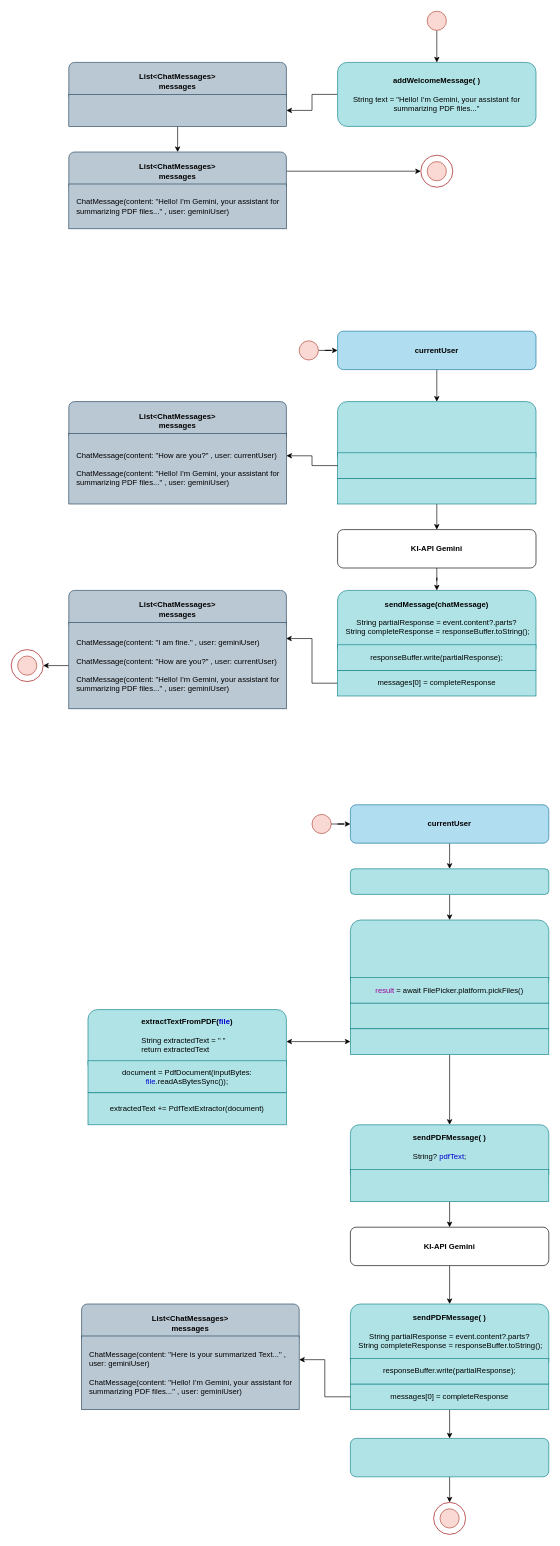
Some shapes in this 560 by 1546 pixel diagram are drawn without their labels. The box of each missing label's shape, as (x1, y1, x2, y2) in pixels:
file = File( result .files.single.path!);: (350, 1003, 549, 1029)
gemini.streamGenerateContent( userQuestion ): (337, 478, 536, 504)
gemini.streamGenerateContent("Summarize this PDF:\n$ pdfText "): (350, 1169, 549, 1202)
isSummaryAvailable = true: (350, 1438, 549, 1477)
messages = [ chatMessage , ...messages]: (337, 452, 536, 478)
pdfText = await _extractTextFromPDF( file );: (350, 1028, 549, 1054)
press PDF upload Button: (350, 868, 549, 894)
sendMessage(chatMessage) String userQuestion = chatMessage.text: (337, 401, 536, 466)
sendPDFMessage( ) FilePickerResult? result File? file String? pdfText;: (350, 919, 549, 990)
